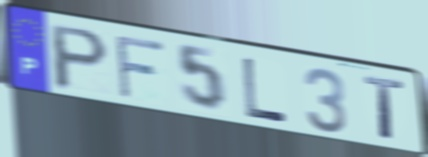3: (302, 66, 348, 134)
5: (174, 42, 230, 118)
F: (113, 32, 168, 102)
L: (240, 55, 289, 126)
P: (50, 22, 112, 93)
T: (362, 73, 407, 144)
